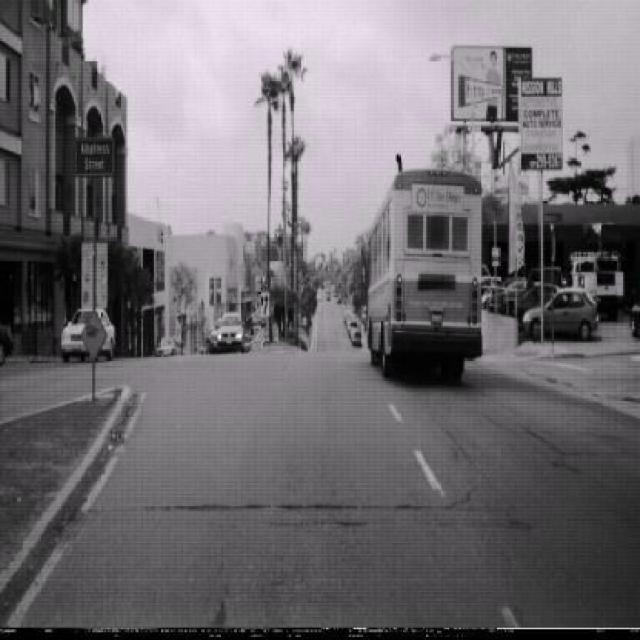keepRight: (258, 290, 270, 318)
